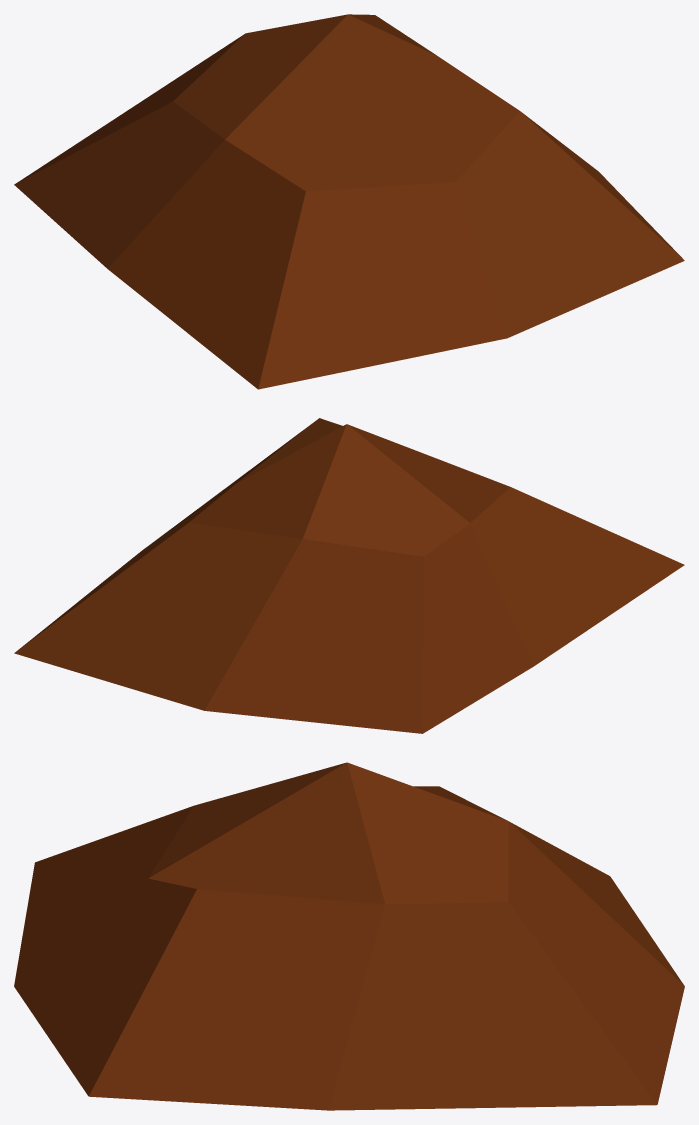
File: Digsite_Hill_small.fbx
The picture shows the model from 3 angles, top to bottom: view 1: azimuth 30°, elevation 25°; view 2: azimuth 150°, elevation 25°; view 3: azimuth 270°, elevation 25°; orthographic projection. The views are drawn at different scales.
Parts seen in each view (by area): view 1: Digsite_Hill_small; view 2: Digsite_Hill_small; view 3: Digsite_Hill_small.
Boxes of the visible parts, x1,y1,x2,y2 form: Digsite_Hill_small: (14, 14, 684, 389); Digsite_Hill_small: (14, 418, 684, 733); Digsite_Hill_small: (14, 762, 684, 1110).
Size of the model in its own units: 87.51 by 36.63 by 100.
